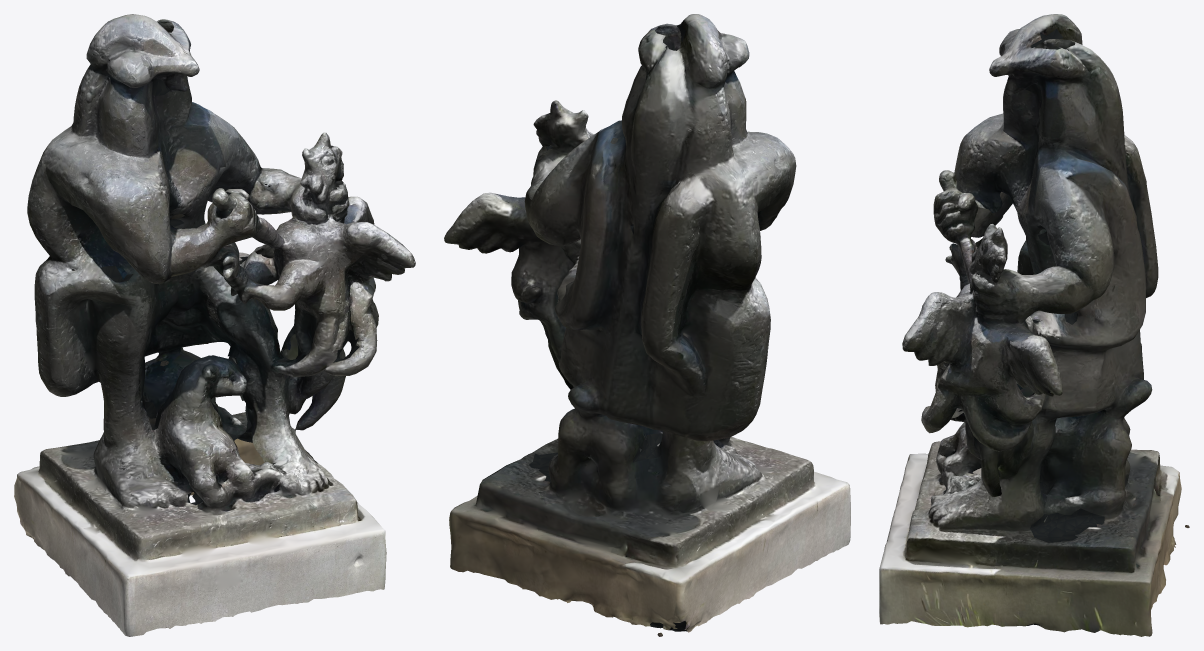
File: mesh_lowpoly.obj
The picture shows the model from 3 angles, left to right: view 1: azimuth 30°, elevation 25°; view 2: azimuth 150°, elevation 25°; view 3: azimuth 270°, elevation 25°; orthographic projection. The views are drawn at different scales.
Bounding box in the file's own units: 1.44 × 2.33 × 1.23.
Materials: 7 (7 with a texture image).
